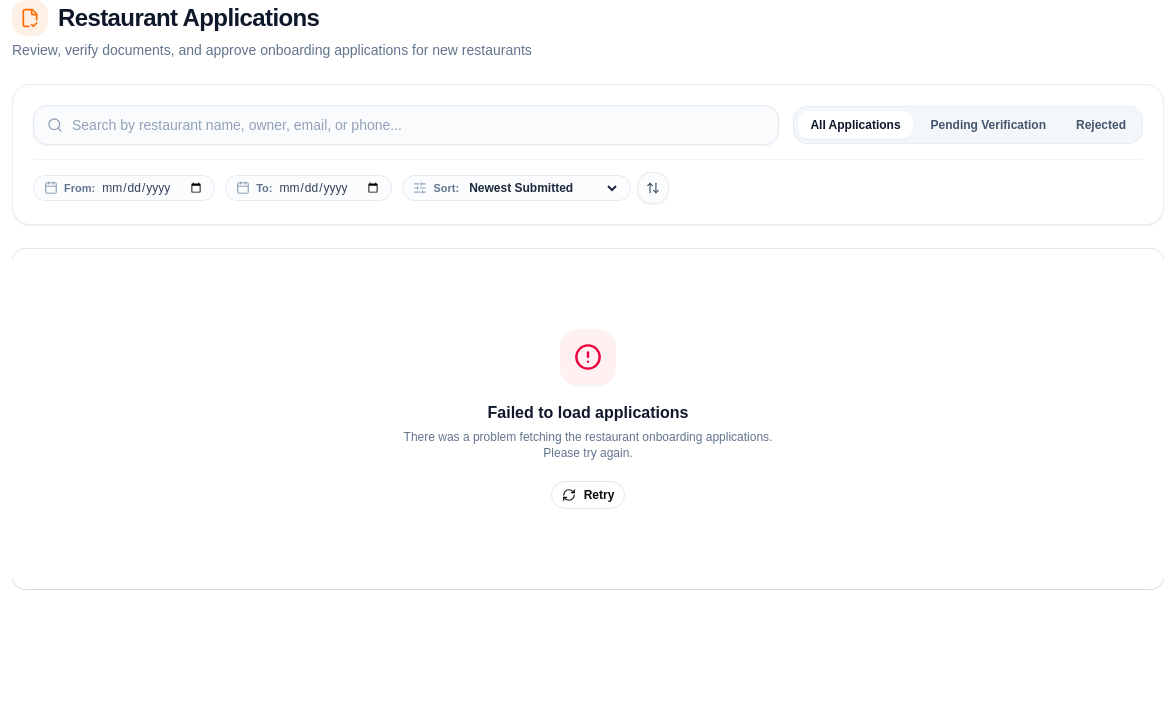
Test: AdminRestaurantApplicationsPage › renders error state on API failure and allows retry
Expected: the message with test id "application-error-state" is shown, [404, 329, 772, 509]
Click the button "Retry": x=588, y=495 [551, 481, 625, 509]
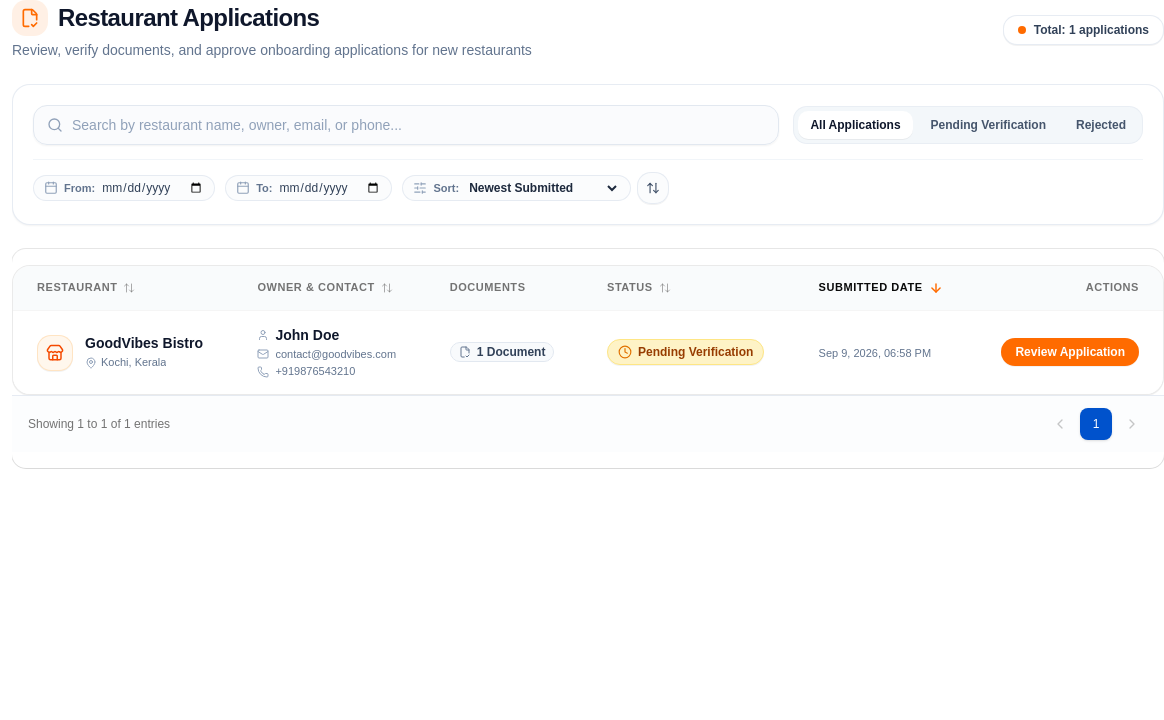
Expected: the link "GoodVibes Bistro" is shown, [85, 333, 203, 353]
